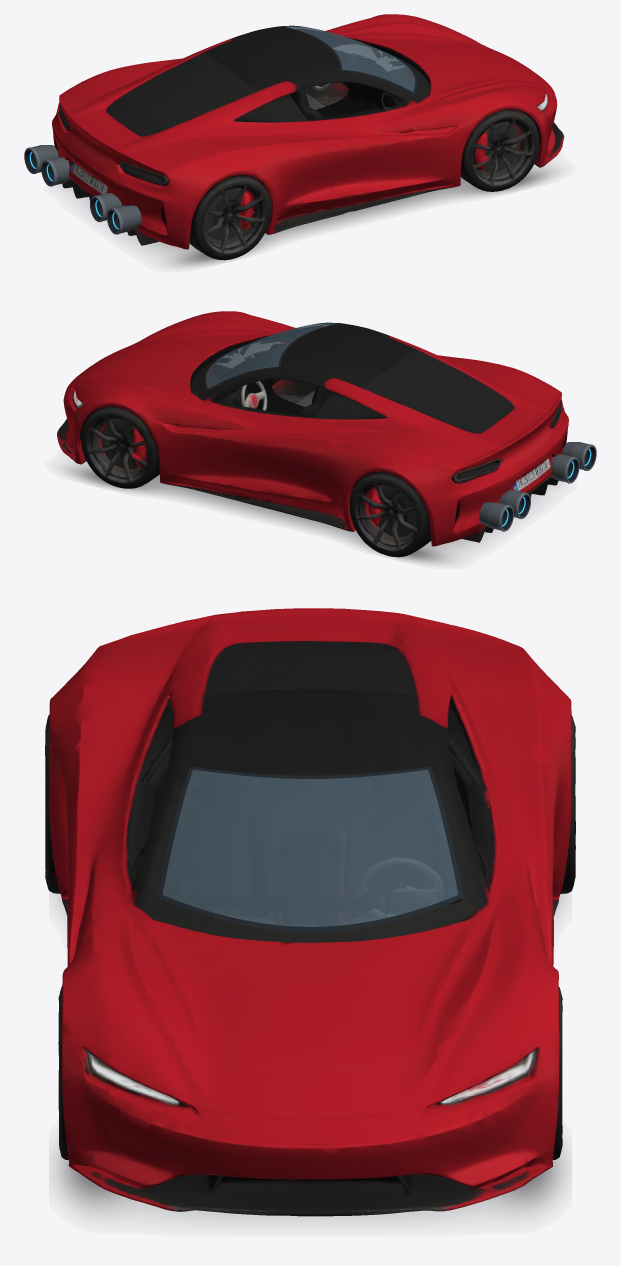
Rendered from roadster-v2-model.glb.
The picture shows the model from 3 angles, top to bottom: view 1: azimuth 30°, elevation 25°; view 2: azimuth 150°, elevation 25°; view 3: azimuth 270°, elevation 25°; orthographic projection. The views are drawn at different scales.
Visible parts, largest first — view 1: tripo_node_66e69843-7ea6-4ede-aa26-b6ba2a6d8b9e, Roadster rear thruster 4, Roadster rear thruster 2, Roadster rear thruster 1, Roadster rear thruster 3; view 2: tripo_node_66e69843-7ea6-4ede-aa26-b6ba2a6d8b9e, Roadster rear thruster 1, Roadster rear thruster 3, Roadster rear thruster 4, Roadster rear thruster 2; view 3: tripo_node_66e69843-7ea6-4ede-aa26-b6ba2a6d8b9e.
Boxes of the visible parts, x1=… form: tripo_node_66e69843-7ea6-4ede-aa26-b6ba2a6d8b9e: x1=52, y1=14, x2=564, y2=266; Roadster rear thruster 4: x1=107, y1=205, x2=141, y2=234; Roadster rear thruster 2: x1=41, y1=157, x2=69, y2=186; Roadster rear thruster 1: x1=24, y1=145, x2=58, y2=173; Roadster rear thruster 3: x1=90, y1=193, x2=121, y2=222; tripo_node_66e69843-7ea6-4ede-aa26-b6ba2a6d8b9e: x1=57, y1=311, x2=568, y2=563; Roadster rear thruster 1: x1=479, y1=502, x2=513, y2=531; Roadster rear thruster 3: x1=551, y1=454, x2=579, y2=483; Roadster rear thruster 4: x1=562, y1=442, x2=596, y2=470; Roadster rear thruster 2: x1=499, y1=490, x2=530, y2=519; tripo_node_66e69843-7ea6-4ede-aa26-b6ba2a6d8b9e: x1=45, y1=608, x2=575, y2=1216.
Bounding box in the file's own units: 1.04 × 0.2862 × 0.5073.
8 materials, 2 textured.
